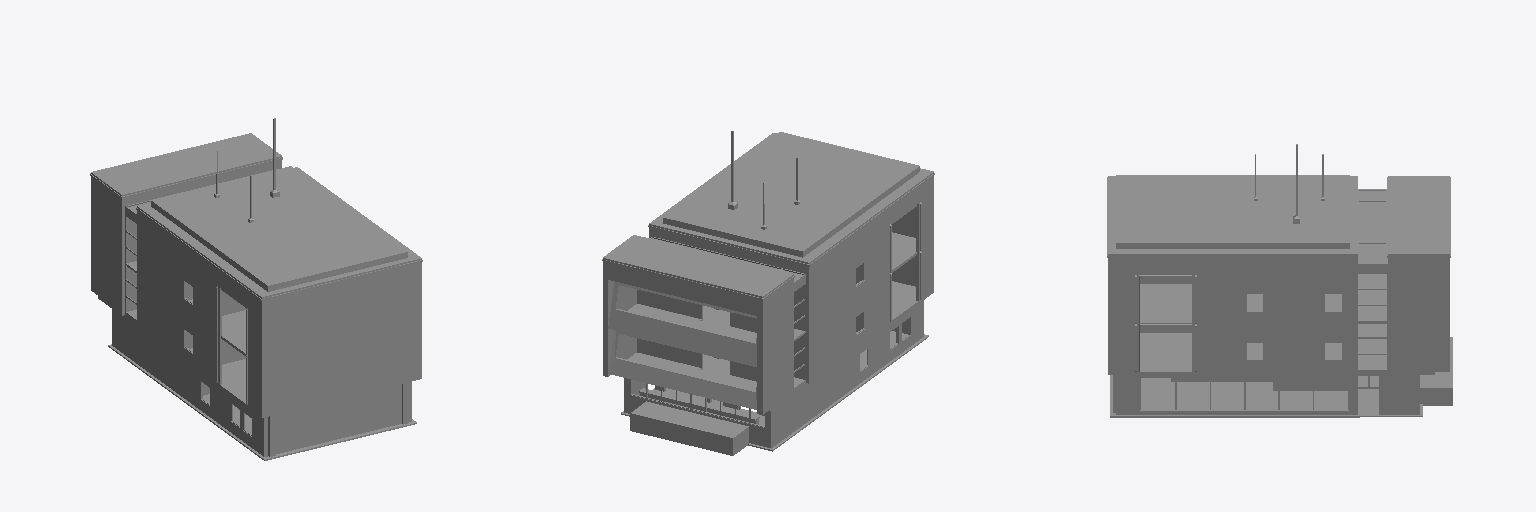
The model's file is Edif1.obj.
The picture shows the model from 3 angles: view 1: azimuth 30°, elevation 25°; view 2: azimuth 150°, elevation 25°; view 3: azimuth 270°, elevation 25°; orthographic projection.
Parts seen in each view (by area): view 1: Residential_Buildings_001_Cube.001; view 2: Residential_Buildings_001_Cube.001; view 3: Residential_Buildings_001_Cube.001.
Boxes of the visible parts, box(x1,y1,x2,y2) form: Residential_Buildings_001_Cube.001: box(90, 118, 422, 460); Residential_Buildings_001_Cube.001: box(602, 131, 934, 455); Residential_Buildings_001_Cube.001: box(1107, 144, 1452, 417).
Bounding box in the file's own units: 12.59 × 18.39 × 23.1.